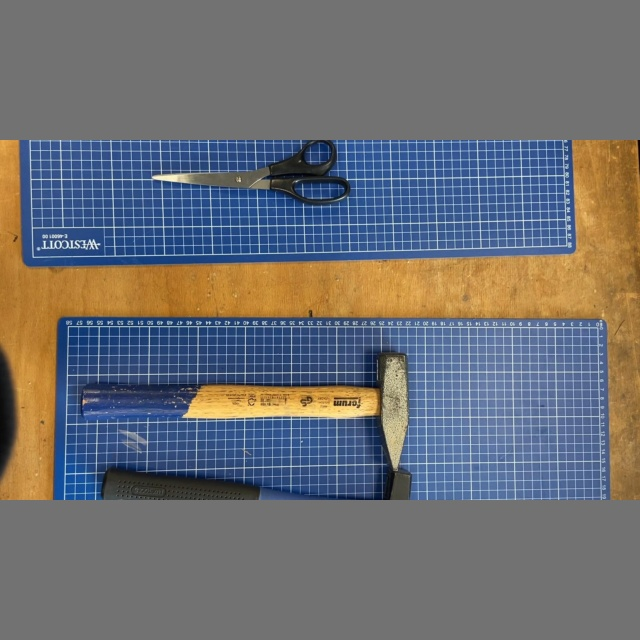scissor: (147, 140, 356, 208)
